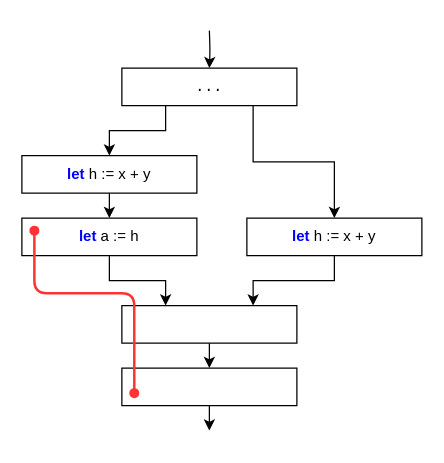
The diagram is 444 pixels wide and 463 high, and some of its shapes have lost their labels. The shapes that lost their labels are listed below. From the top down, each one's centre as x and y in pixels, then its label:
At point (209, 323): "let b := h".
At point (209, 386): "let z := h".
